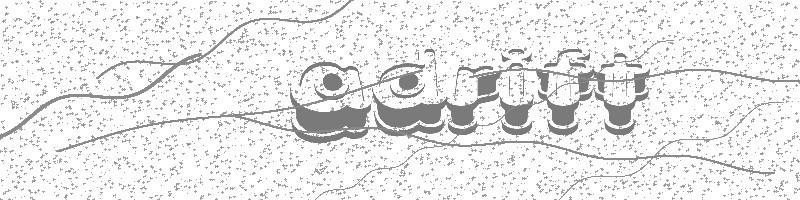a: (288, 61, 371, 144)
d: (371, 48, 445, 139)
f: (536, 48, 595, 136)
i: (496, 48, 534, 136)
r: (446, 65, 500, 135)
t: (595, 53, 652, 136)
